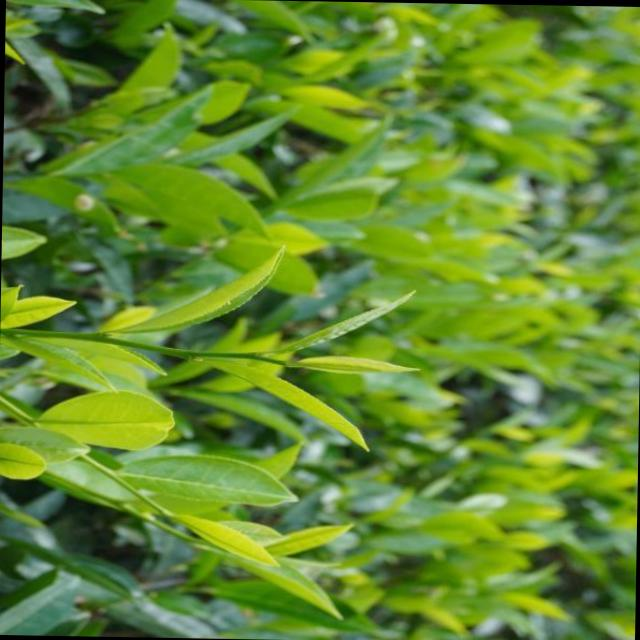Stem: (250, 351, 261, 358), (163, 509, 171, 514), (189, 537, 195, 541)
